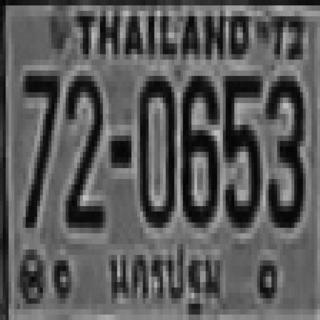N00: (137, 70, 177, 230)
N02: (64, 73, 101, 225)
N03: (264, 71, 305, 234)
N05: (223, 70, 262, 227)
N06: (180, 71, 219, 229)
N07: (20, 68, 57, 225)
P28: (105, 234, 226, 318)
